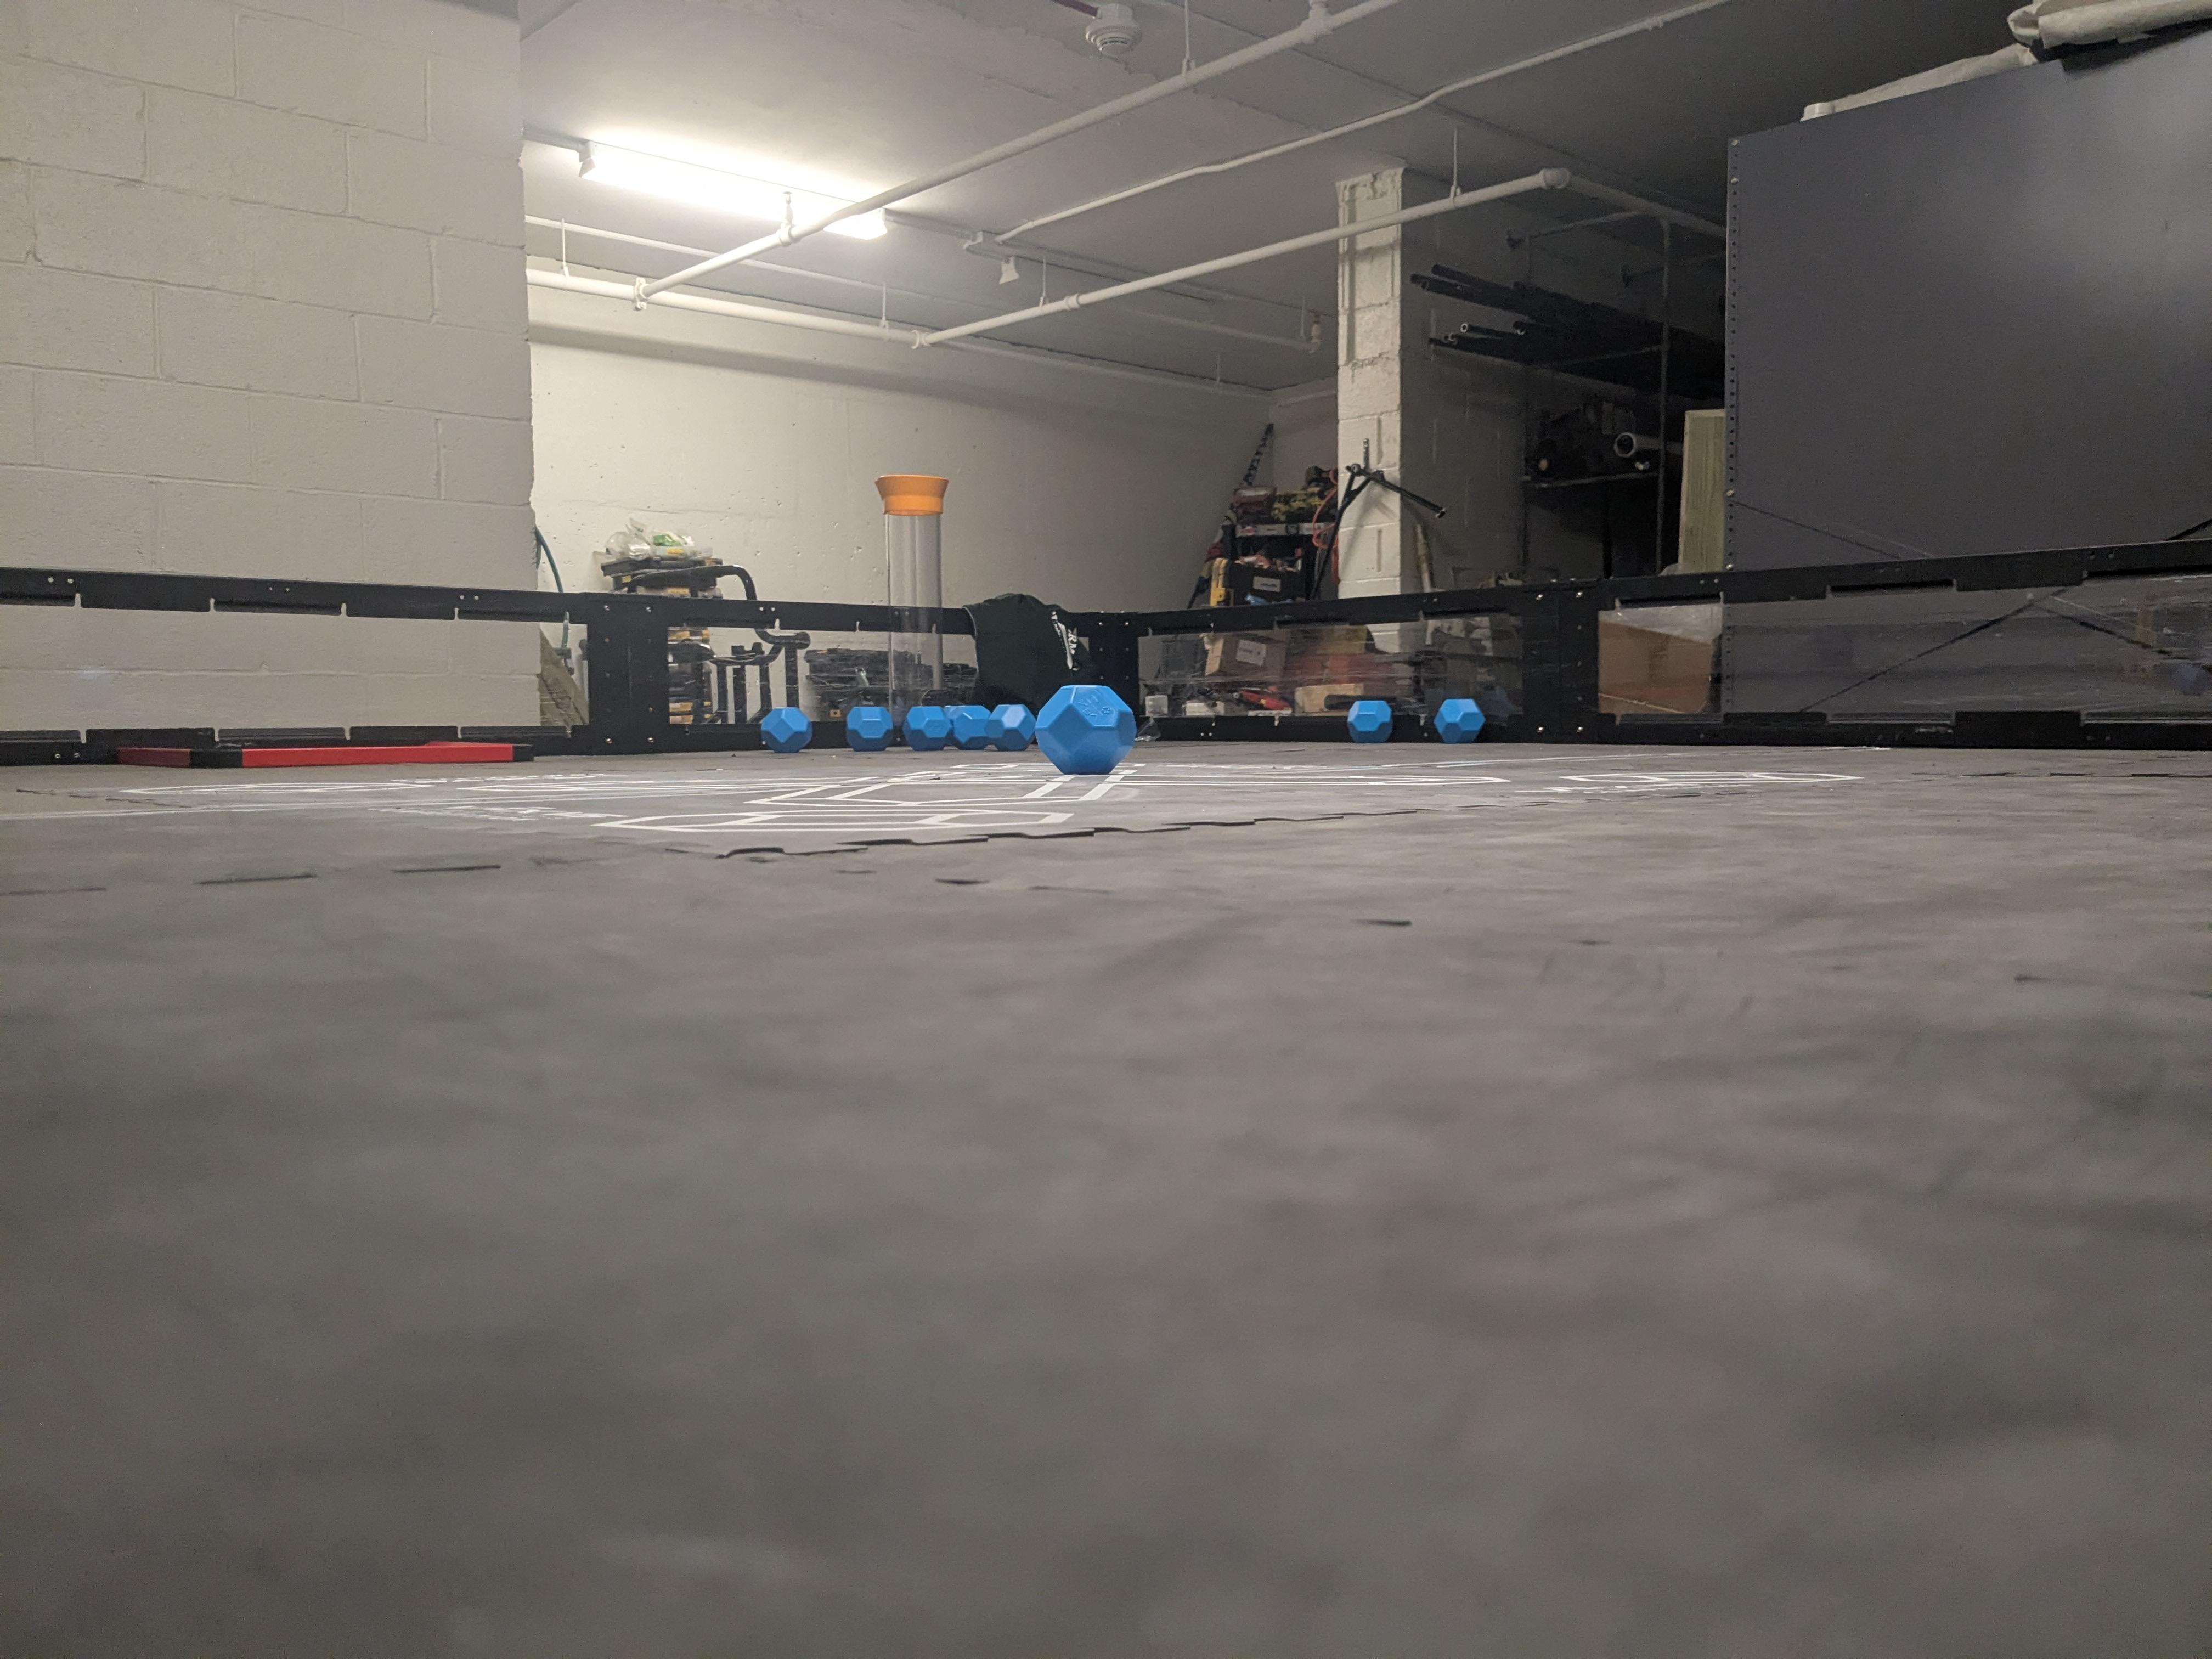Vex-Pieces-BLUE: (1036, 685, 1137, 772), (1432, 697, 1486, 744), (759, 706, 812, 753), (949, 704, 1001, 749), (902, 706, 951, 751), (846, 706, 894, 751), (1348, 699, 1392, 742), (996, 704, 1035, 749)
